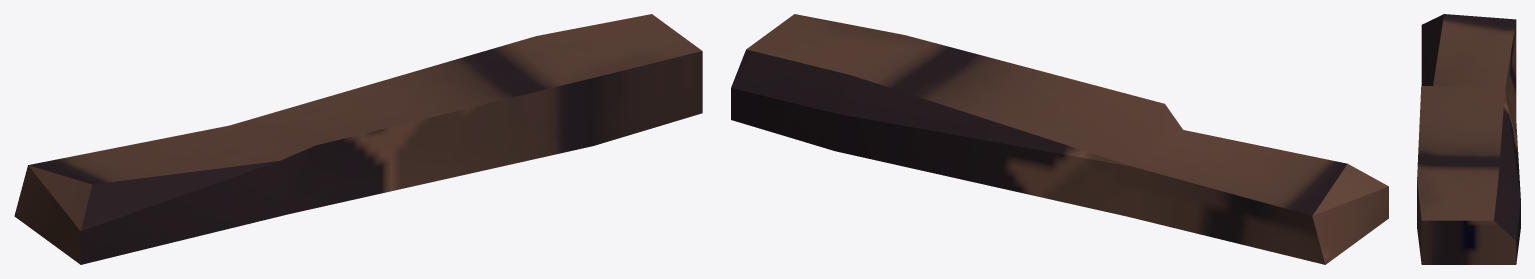
The model's file is bridge_06.FBX.
3 views of the same model, side by side, from view 1: azimuth 30°, elevation 25°; view 2: azimuth 150°, elevation 25°; view 3: azimuth 270°, elevation 25° (orthographic). The views are drawn at different scales.
Parts seen in each view (by area): view 1: bridge_06; view 2: bridge_06; view 3: bridge_06.
Part boxes in pixels (<box>): bridge_06: <box>14,14,702,264</box>; bridge_06: <box>731,14,1388,264</box>; bridge_06: <box>1417,14,1520,264</box>.
Size of the model in its own units: 3.41 by 0.3573 by 0.6923.
